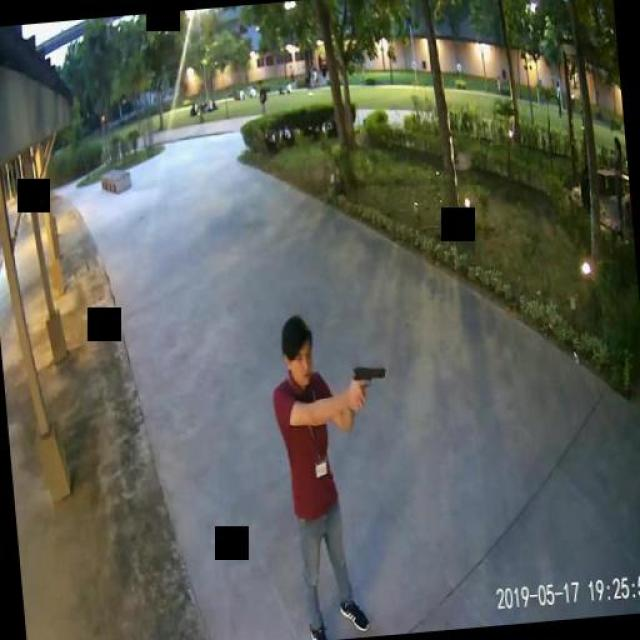gun: (350, 361, 386, 404)
